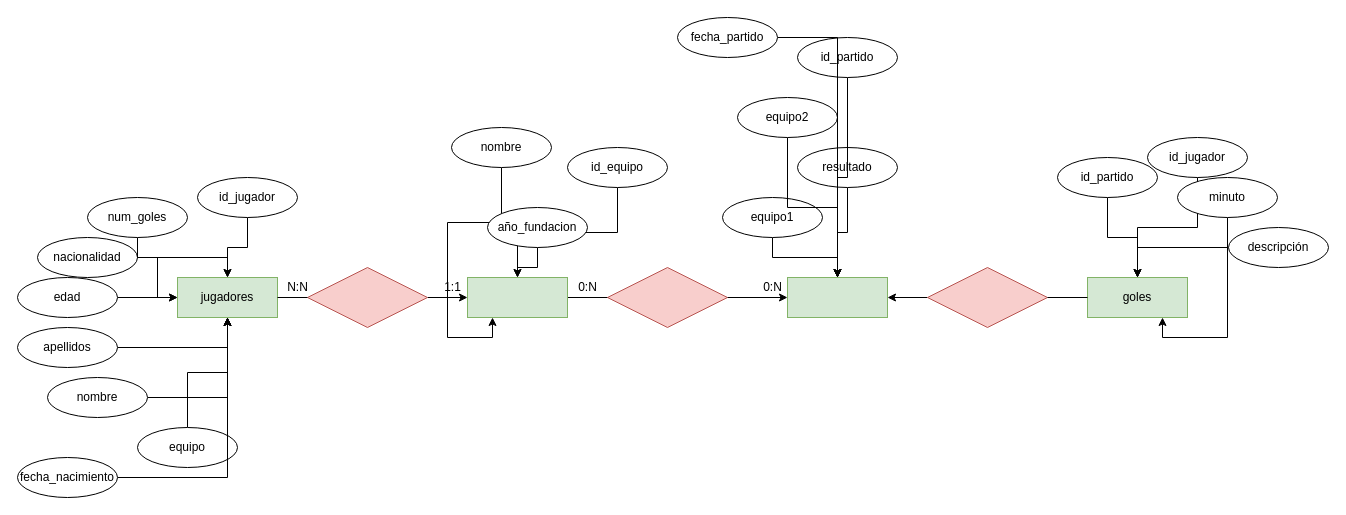
Image size: 1346x515. Some labels were removed from this diagram. Each missing label, with the centre of its shape:
"equipos" belongs at point 517,297.
"juegan" belongs at point 667,297.
"partidos" belongs at point 837,297.
"pertenecen" belongs at point 367,297.
"tienen" belongs at point 987,297.
